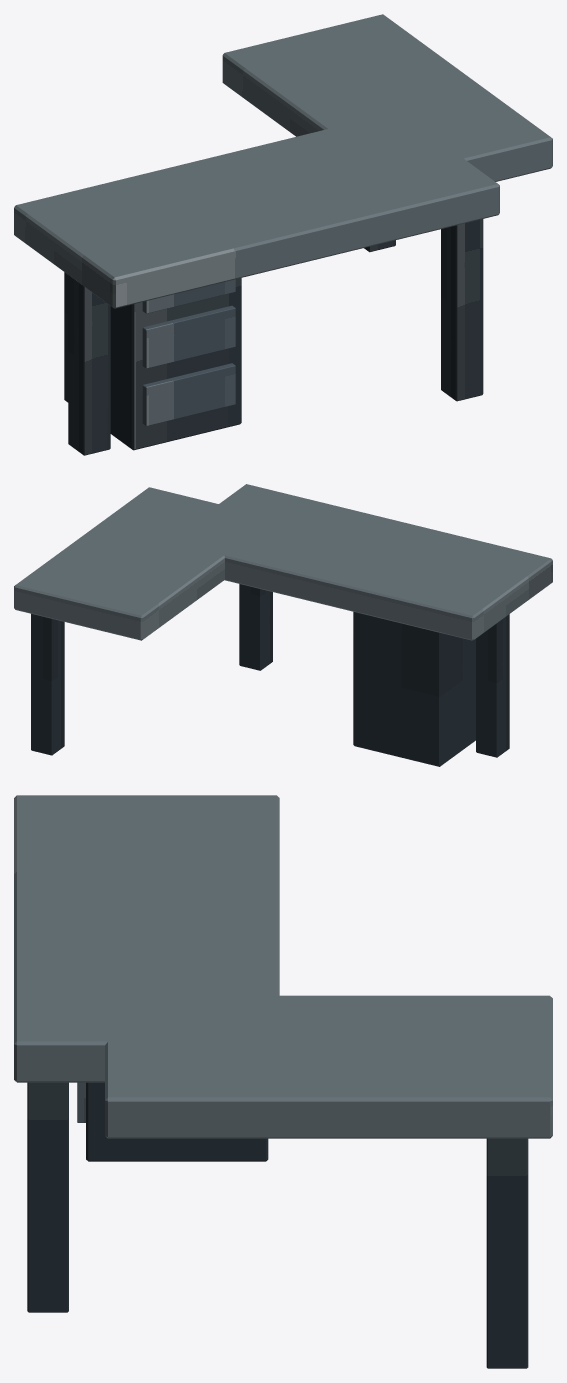
The model's file is office_corner_workstation_charcoal.glb.
The picture shows the model from 3 angles, top to bottom: view 1: azimuth 30°, elevation 25°; view 2: azimuth 150°, elevation 25°; view 3: azimuth 270°, elevation 25°; orthographic projection. The views are drawn at different scales.
Visible parts, largest first — view 1: MainTop, ReturnTop, DrawerPedestal, DeskLeg_0.42_-0.26, DeskLeg_-0.92_0, Drawer_0, Drawer_1, Drawer_2; view 2: MainTop, ReturnTop, DrawerPedestal, DeskLeg_0.77_0.95, DeskLeg_-0.92_0, DeskLeg_0.42_-0.26; view 3: MainTop, ReturnTop, DeskLeg_0.77_0.95, DeskLeg_0.42_-0.26, DrawerPedestal.
Boxes of the visible parts, bbox=[...] form: MainTop: bbox=[14, 113, 499, 308]; ReturnTop: bbox=[222, 14, 552, 181]; DrawerPedestal: bbox=[64, 272, 241, 450]; DeskLeg_0.42_-0.26: bbox=[441, 219, 483, 401]; DeskLeg_-0.92_0: bbox=[68, 275, 110, 455]; Drawer_0: bbox=[142, 363, 235, 426]; Drawer_1: bbox=[142, 305, 235, 368]; Drawer_2: bbox=[142, 279, 235, 313]; MainTop: bbox=[168, 484, 552, 640]; ReturnTop: bbox=[14, 487, 274, 640]; DrawerPedestal: bbox=[353, 612, 475, 766]; DeskLeg_0.77_0.95: bbox=[31, 614, 64, 755]; DeskLeg_-0.92_0: bbox=[476, 614, 509, 757]; DeskLeg_0.42_-0.26: bbox=[239, 584, 272, 670]; MainTop: bbox=[14, 795, 279, 1082]; ReturnTop: bbox=[105, 995, 552, 1138]; DeskLeg_0.77_0.95: bbox=[486, 1138, 528, 1368]; DeskLeg_0.42_-0.26: bbox=[27, 1082, 68, 1312]; DrawerPedestal: bbox=[86, 1082, 268, 1161].
Bounding box in the file's own units: 1.9 × 0.81 × 1.42.
Materials: 1 (1 with a texture image).
